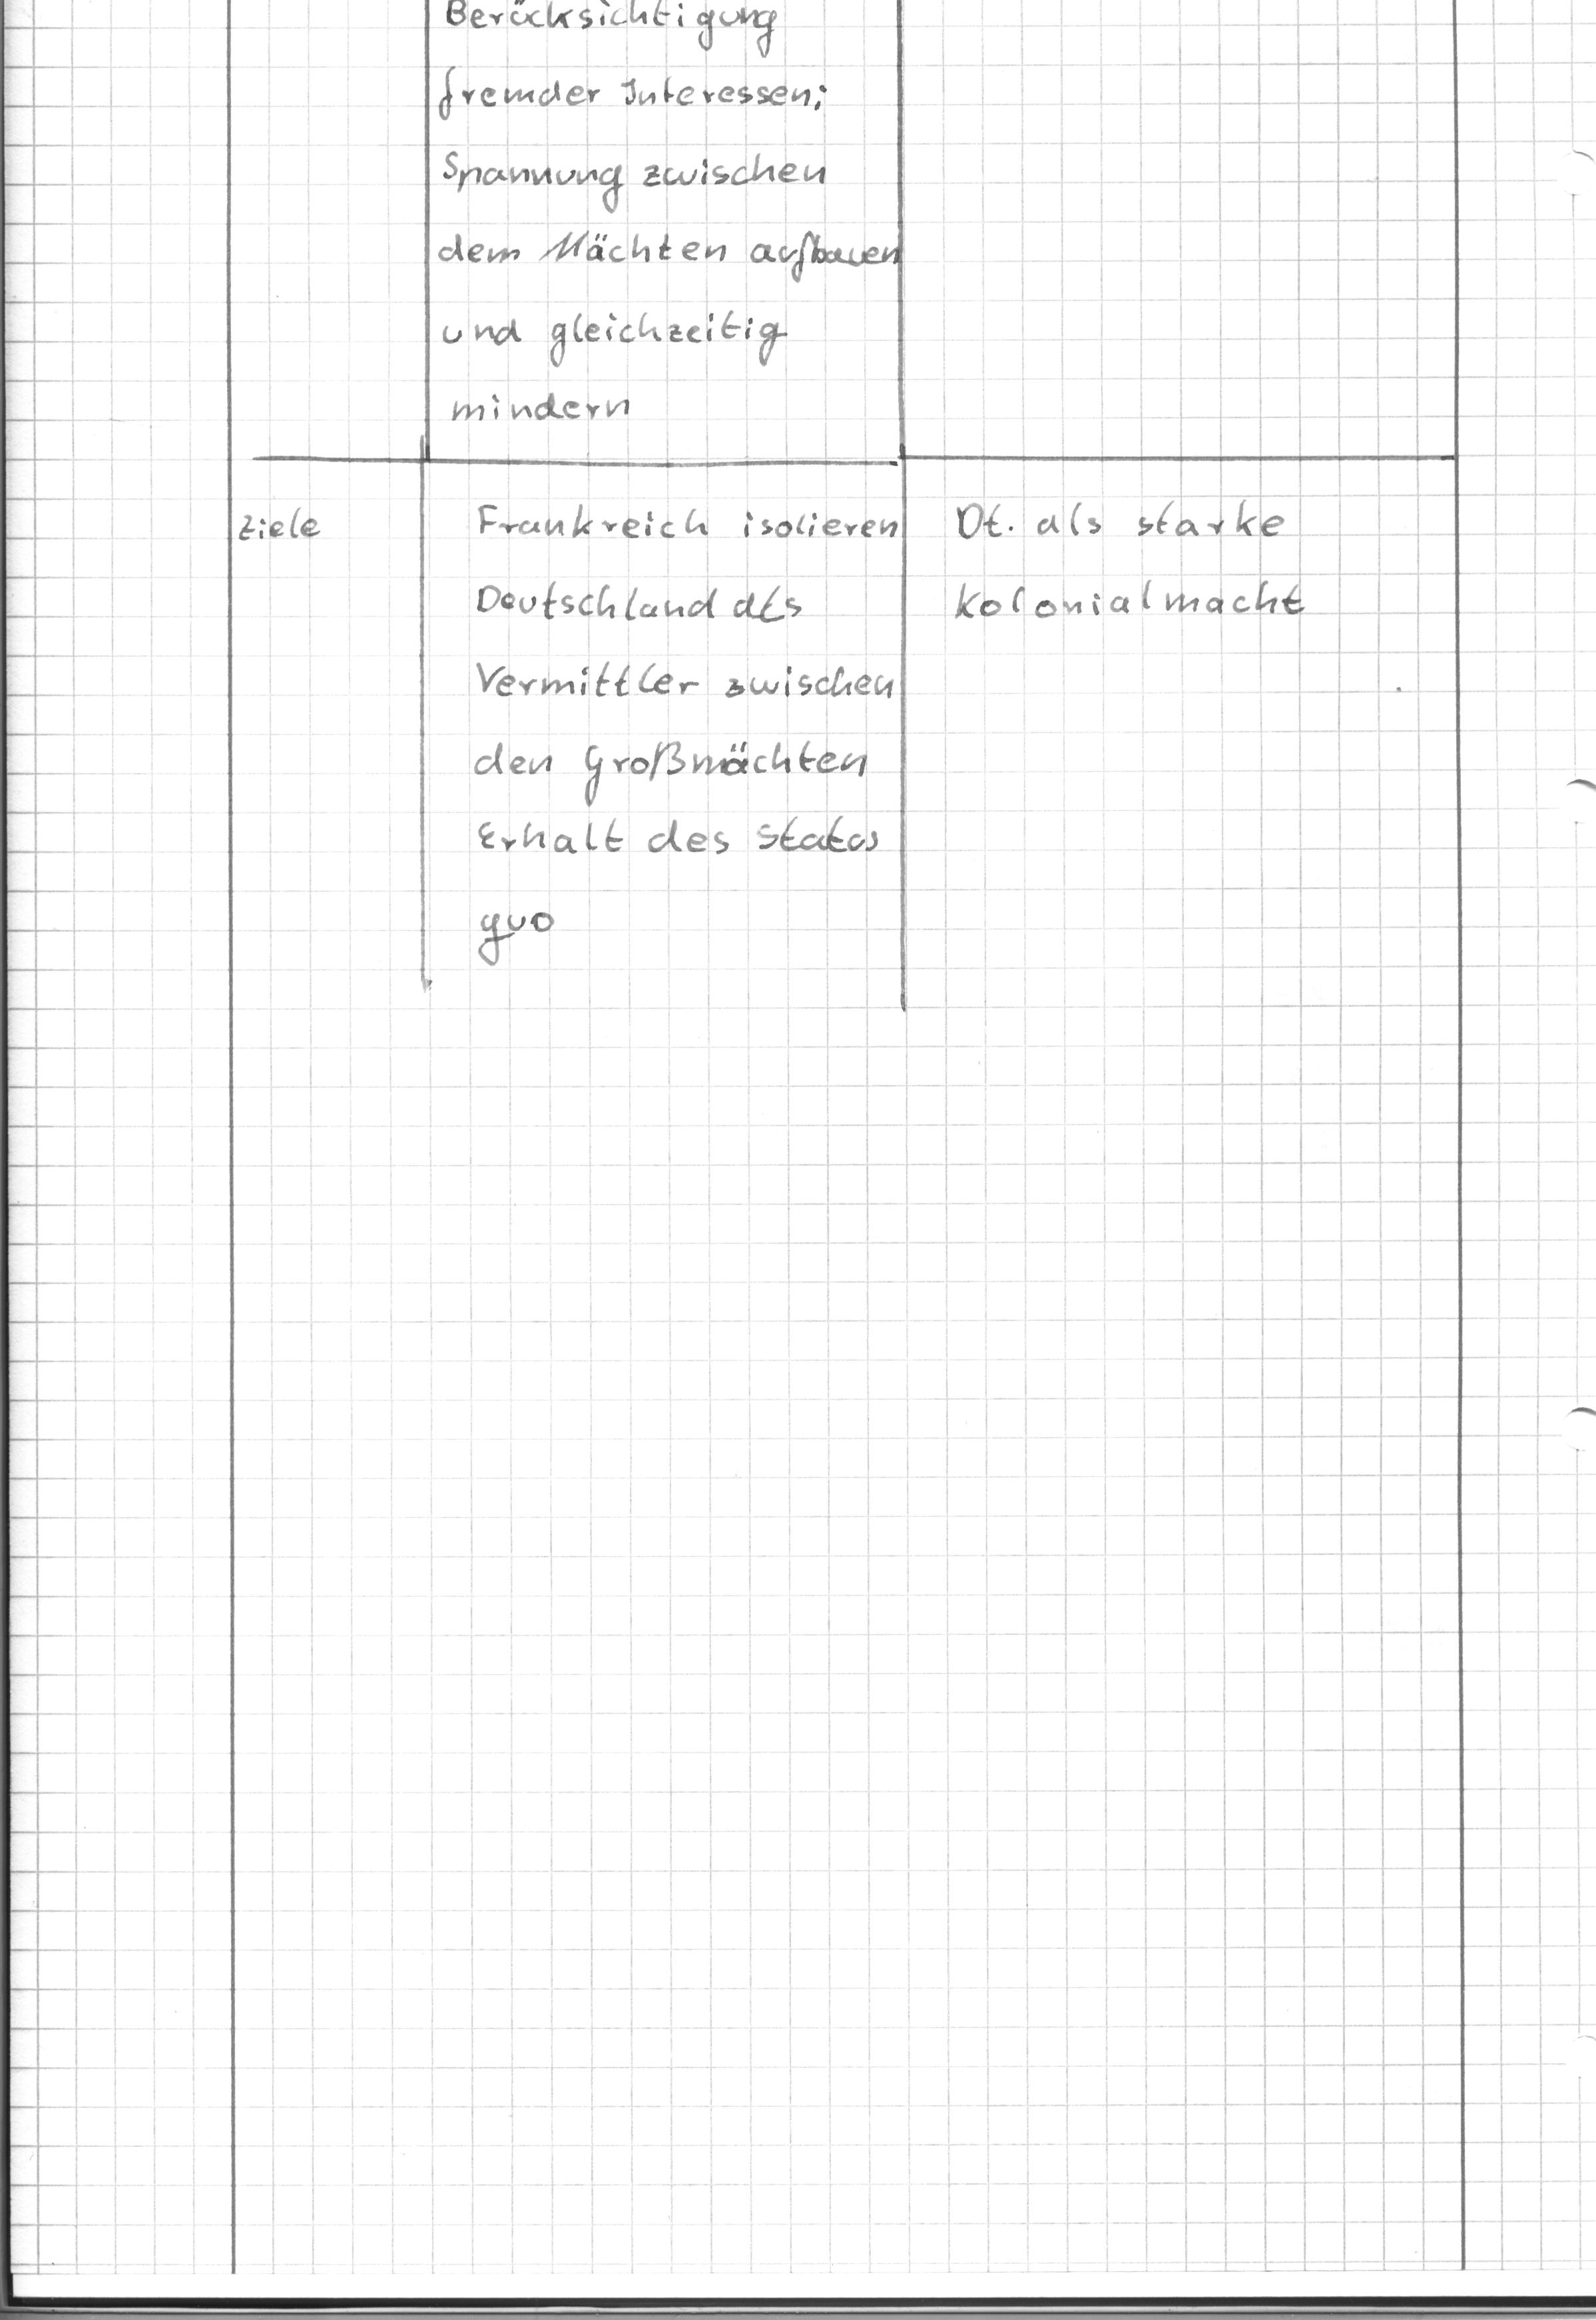word: (461, 492, 904, 972), (930, 485, 1320, 643), (212, 475, 355, 576)
